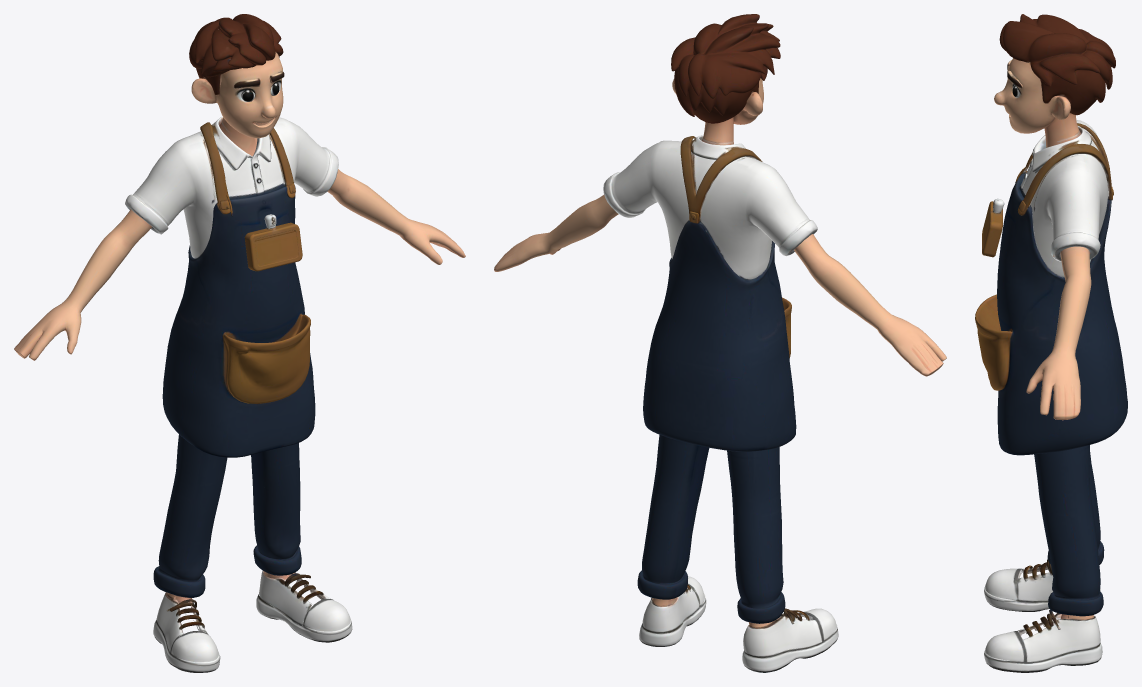
Rendered from toonstudio_teacher_apron.glb.
3 views of the same model, side by side, from view 1: azimuth 30°, elevation 25°; view 2: azimuth 150°, elevation 25°; view 3: azimuth 270°, elevation 25° (orthographic).
Visible parts, largest first — view 1: tripo_2bdb380b_5441_450f_b64b_f44be6c1f02c; view 2: tripo_2bdb380b_5441_450f_b64b_f44be6c1f02c; view 3: tripo_2bdb380b_5441_450f_b64b_f44be6c1f02c.
Boxes of the visible parts, x1=… form: tripo_2bdb380b_5441_450f_b64b_f44be6c1f02c: x1=14, y1=14, x2=465, y2=672; tripo_2bdb380b_5441_450f_b64b_f44be6c1f02c: x1=494, y1=14, x2=946, y2=672; tripo_2bdb380b_5441_450f_b64b_f44be6c1f02c: x1=975, y1=14, x2=1127, y2=672.
Bounding box in the file's own units: 1.28 × 1.7 × 0.3862.
1 material, 1 textured.
